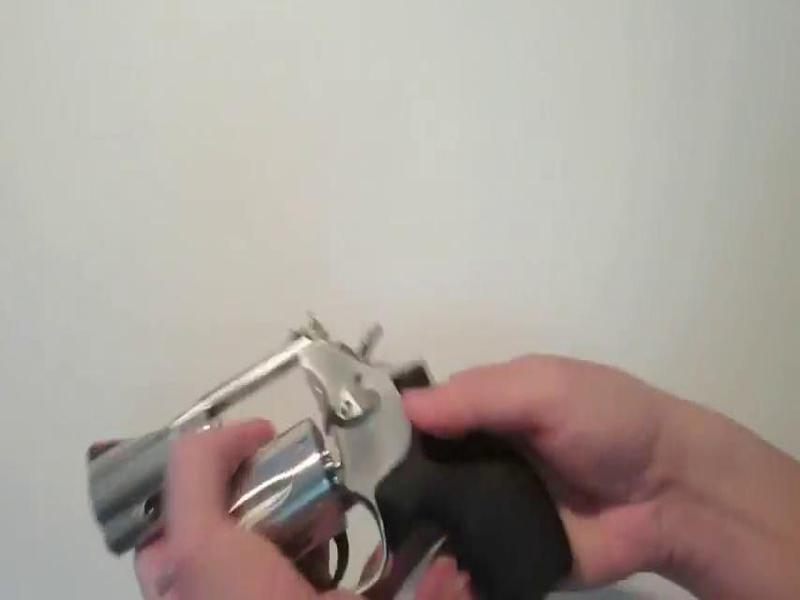Revolver: (52, 289, 578, 600)
